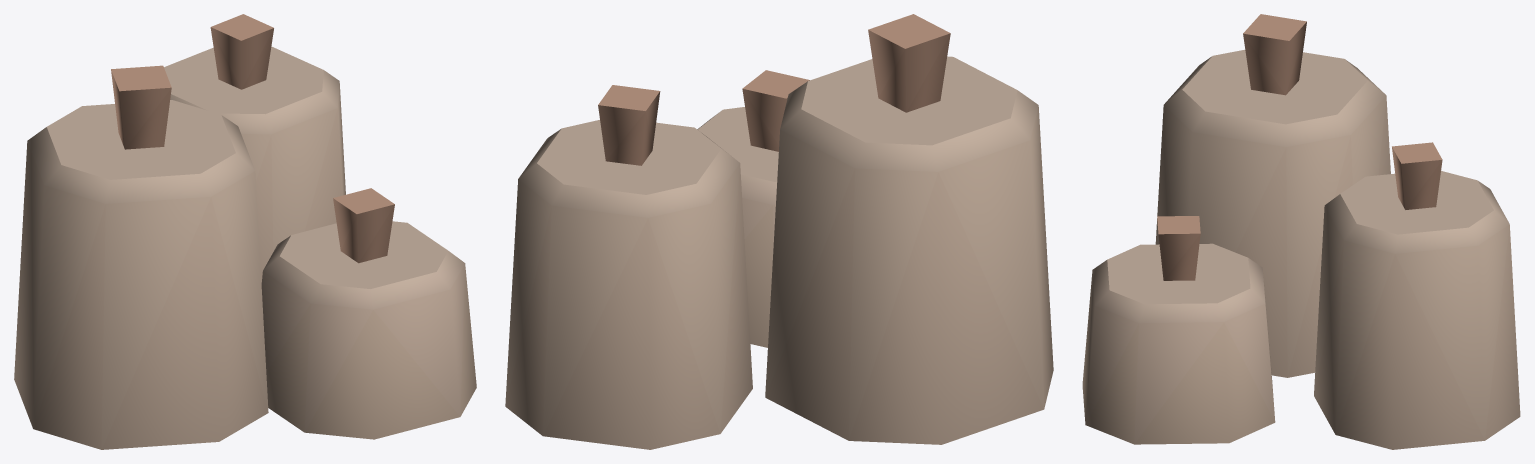
Rendered from kgy_candle-multiple.fbx.
The picture shows the model from 3 angles, left to right: view 1: azimuth 30°, elevation 25°; view 2: azimuth 150°, elevation 25°; view 3: azimuth 270°, elevation 25°; orthographic projection. The views are drawn at different scales.
Visible parts, largest first — view 1: candle-multiple; view 2: candle-multiple; view 3: candle-multiple.
Part boxes in pixels (x1=…): candle-multiple: x1=14, y1=14, x2=476, y2=449; candle-multiple: x1=505, y1=14, x2=1053, y2=449; candle-multiple: x1=1082, y1=14, x2=1520, y2=449.
Bounding box in the file's own units: 25.52 × 20.02 × 26.67.
